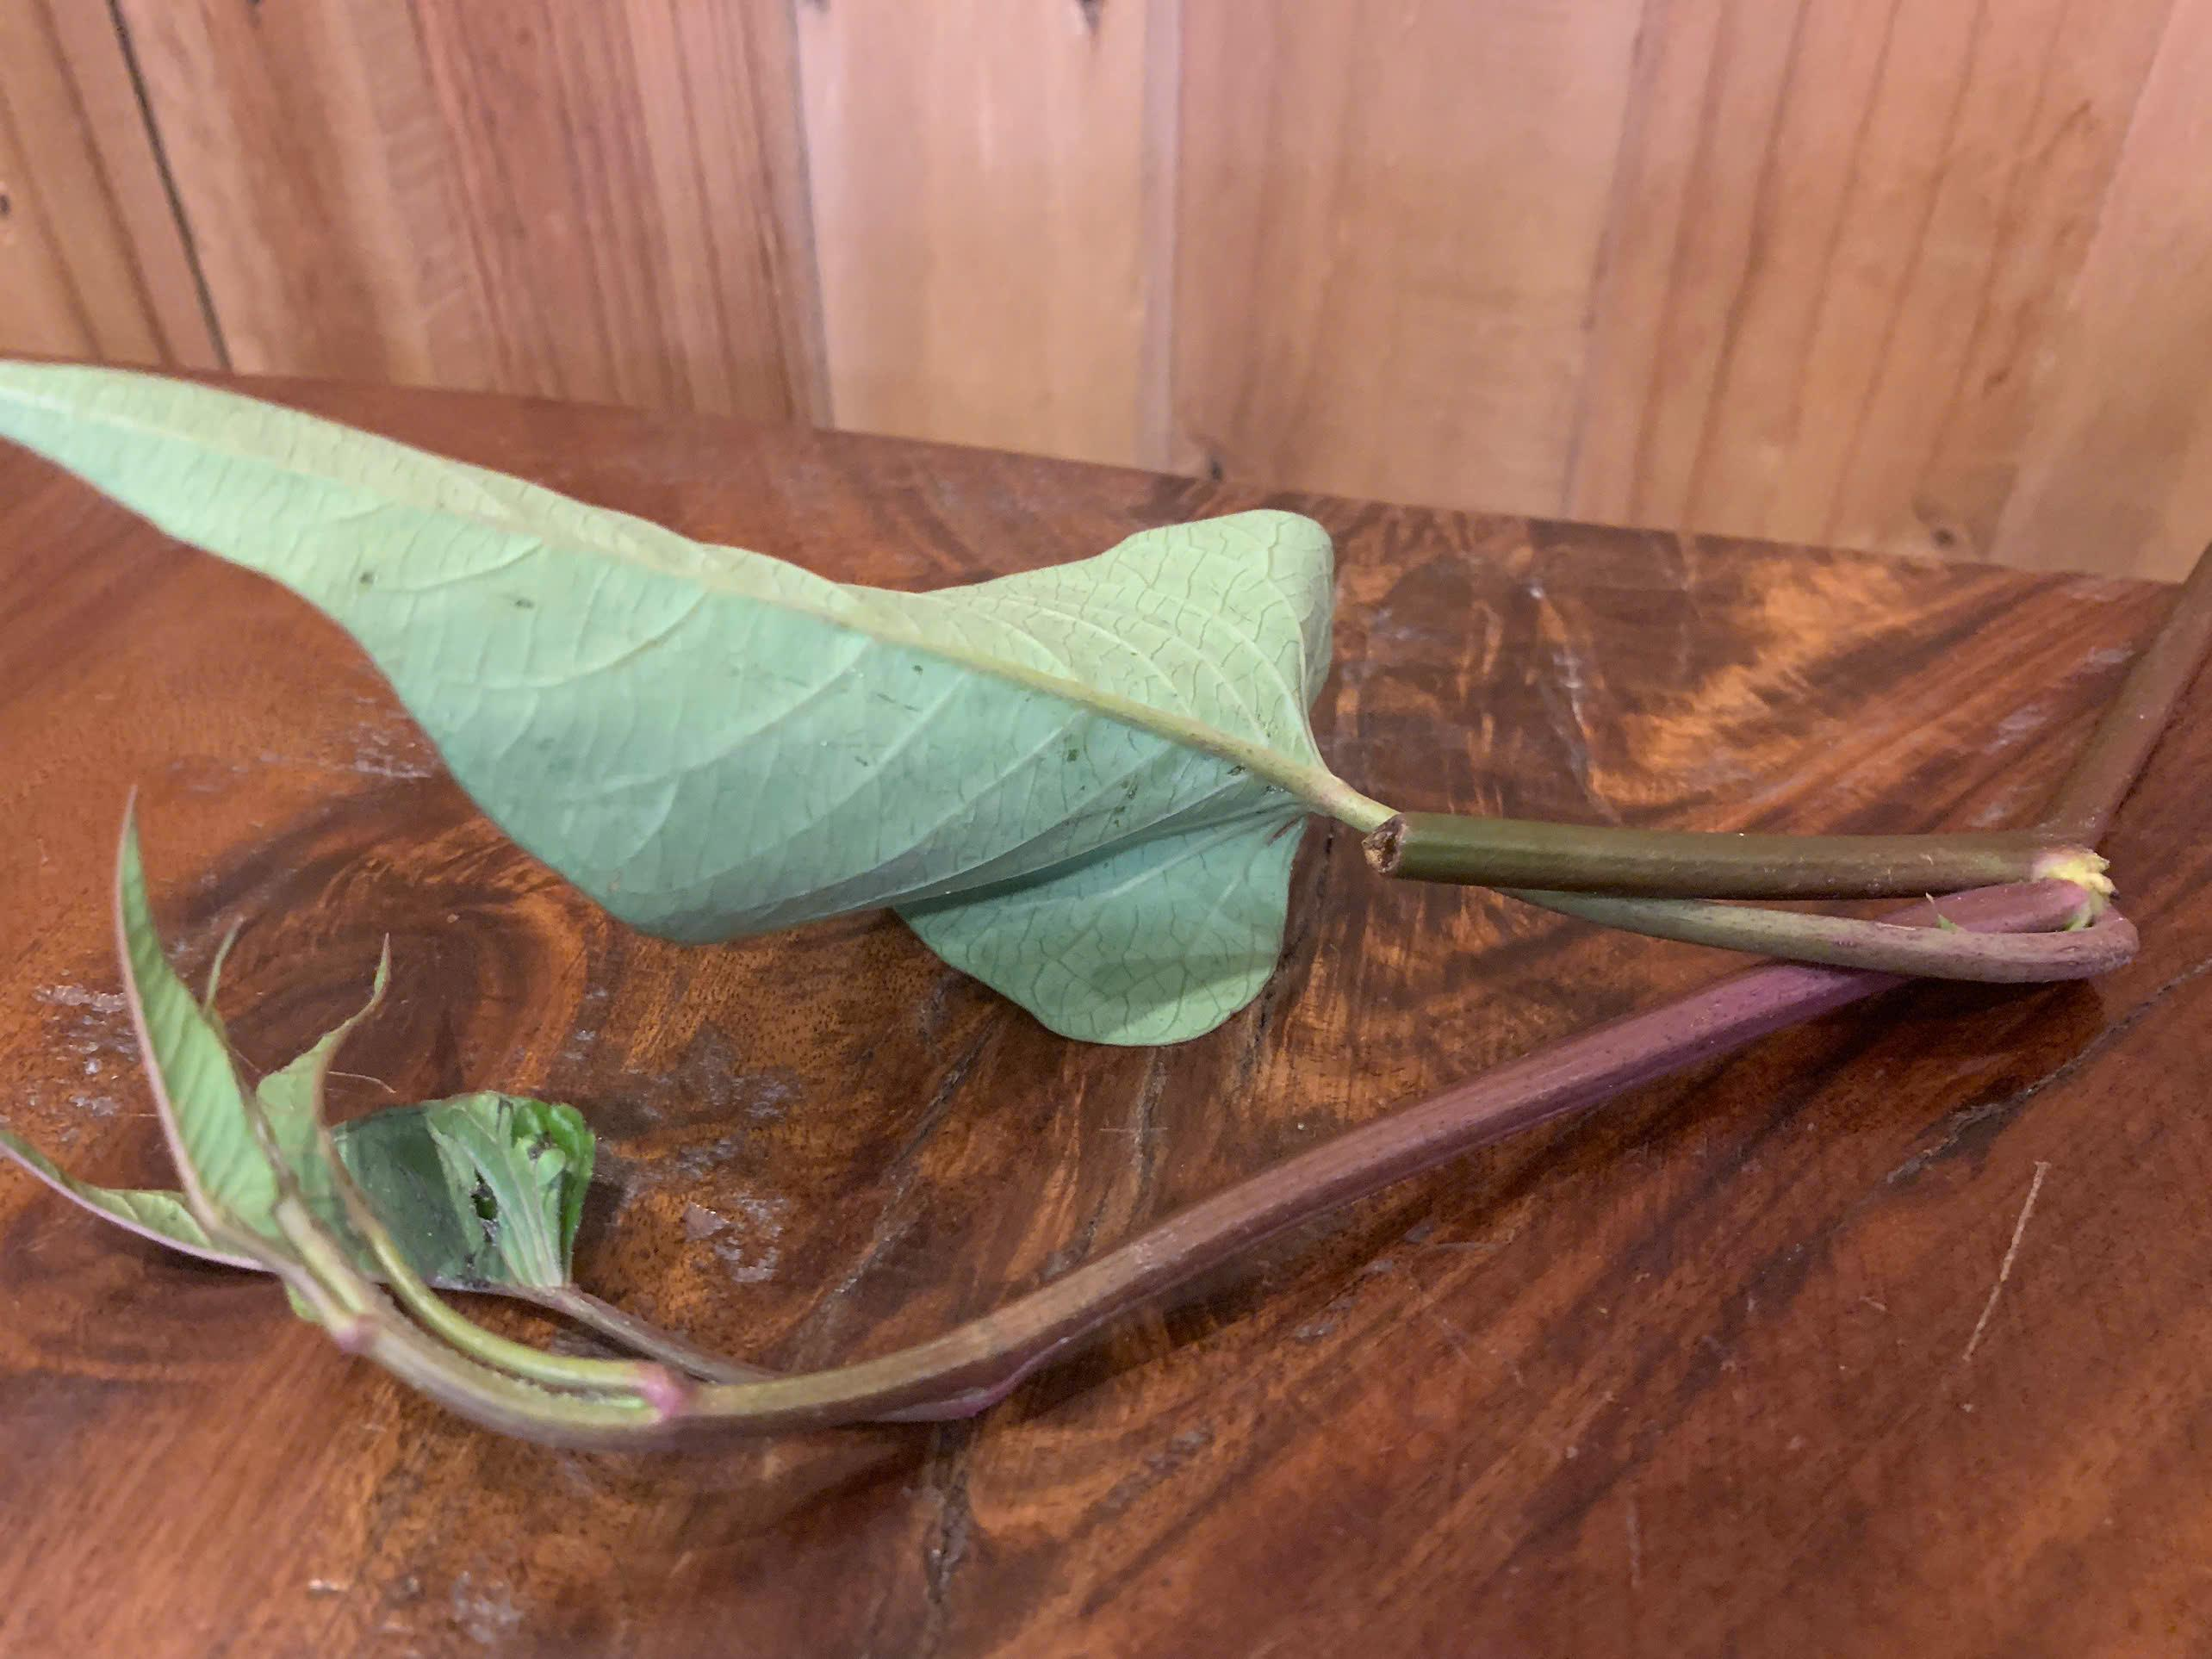Huu co: (5, 371, 2123, 1446)
